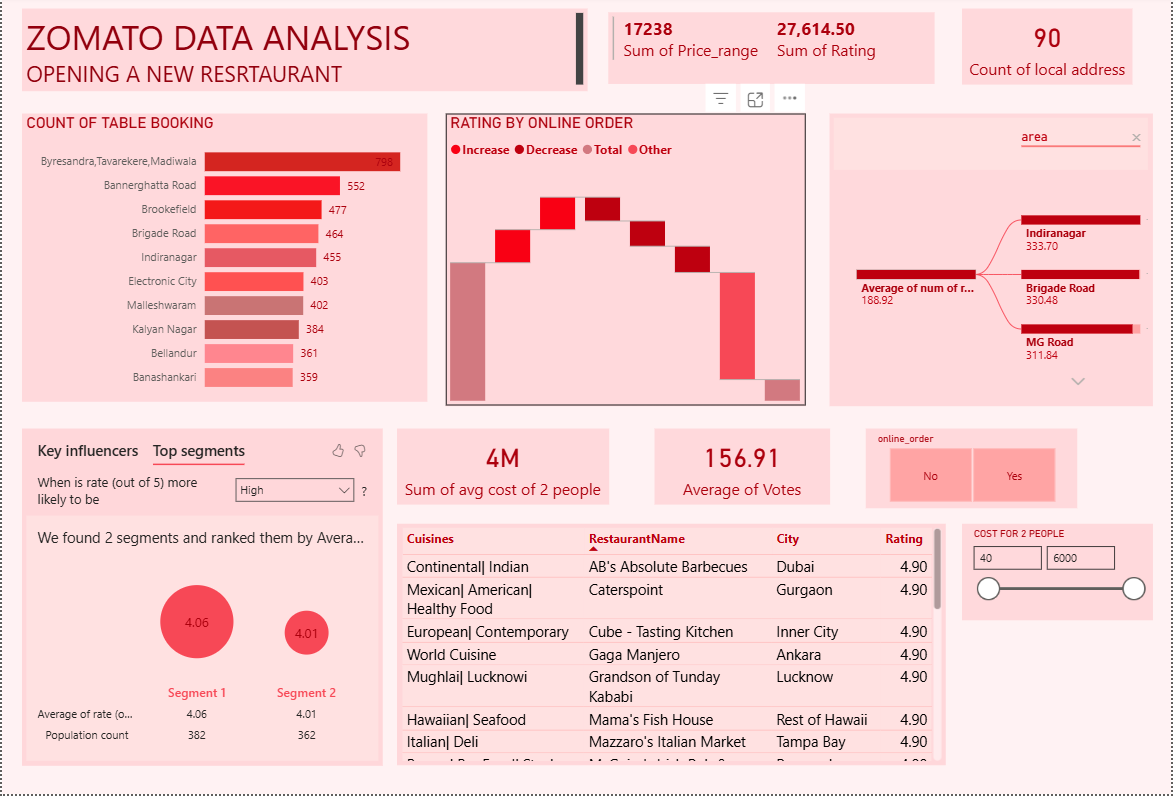

The page's visual inventory and layout, read from the dashboard file:
{"tool":"powerbi","page":{"name":"Page 2","canvas":[1278,873],"ordinal":1},"visuals":[{"type":"waterfallChart","title":"RATING BY ONLINE ORDER","fields":{"Y":["Sum(ZOMATO.num of ratings)"],"Category":["ZOMATO.online_order"],"Breakdown":["ZOMATO.rate (out of 5)"]},"box":[485,128.3,393.3,320],"z":0},{"type":"keyDriversVisual","fields":{"Target":["ZOMATO.rate (out of 5)"],"ExplainBy":["ZOMATO.table booking","ZOMATO.online_order","ZOMATO.area"]},"box":[21.4,472.9,394.3,368.6],"z":1000},{"type":"decompositionTreeVisual","fields":{"ExplainBy":["ZOMATO.area","ZOMATO.cuisines type.1","ZOMATO.cuisines type.2","ZOMATO.cuisines type.3","ZOMATO.cuisines type.4","ZOMATO.cuisines type.5","ZOMATO.cuisines type.6","ZOMATO.cuisines type.7","ZOMATO.rate (out of 5)"],"Analyze":["Avg(ZOMATO.num of ratings)"]},"box":[905,128.3,353.3,320],"z":2000},{"type":"card","fields":{"Values":["Avg(Zomato_Dataset.Votes)"]},"box":[713.3,473.3,191.7,83.3],"z":3000},{"type":"multiRowCard","fields":{"Values":["Sum(Zomato_Dataset.Price_range)","Sum(Zomato_Dataset.Rating)"]},"box":[662.9,17.1,357.1,78.6],"z":4000},{"type":"card","fields":{"Values":["Count(ZOMATO.local address)"]},"box":[1050,13.3,186.7,83.3],"z":5000},{"type":"clusteredBarChart","title":"COUNT OF TABLE BOOKING","fields":{"Category":["ZOMATO.area"],"Y":["CountNonNull(ZOMATO.table booking)"]},"box":[21.7,128.3,443.3,315],"z":6000},{"type":"tableEx","fields":{"Values":["Zomato_Dataset.Cuisines","Zomato_Dataset.RestaurantName","Zomato_Dataset.City","Zomato_Dataset.Rating"]},"box":[431.4,577.1,600,264.3],"z":7000},{"type":"card","fields":{"Values":["Sum(ZOMATO.avg cost (two people))"]},"box":[431.7,473.3,231.7,83.3],"z":8000},{"type":"slicer","fields":{"Values":["ZOMATO.online_order"]},"box":[944.3,472.9,231.4,87.1],"z":9000},{"type":"textbox","box":[21.7,13.3,618.3,90],"z":10000},{"type":"slicer","fields":{"Values":["ZOMATO.avg cost (two people)"]},"box":[1050,577.1,208.6,105.7],"z":11000}]}

Visuals, with their boxes in screenshot pixels (x1, y1, x2, y2), scaled from the page's 1278x873 canvas onto the 1176x799 screenshot:
"RATING BY ONLINE ORDER" waterfallChart: left=446, top=117, right=808, bottom=410
keyDriversVisual - ZOMATO.rate (out of 5) x ZOMATO.table booking: left=20, top=433, right=383, bottom=770
decompositionTreeVisual - ZOMATO.area x ZOMATO.cuisines type.1: left=833, top=117, right=1158, bottom=410
card - Avg(Zomato_Dataset.Votes): left=656, top=433, right=833, bottom=509
multiRowCard - Sum(Zomato_Dataset.Price_range) x Sum(Zomato_Dataset.Rating): left=610, top=16, right=939, bottom=88
card - Count(ZOMATO.local address): left=966, top=12, right=1138, bottom=88
"COUNT OF TABLE BOOKING" clusteredBarChart: left=20, top=117, right=428, bottom=406
tableEx - Zomato_Dataset.Cuisines x Zomato_Dataset.RestaurantName: left=397, top=528, right=949, bottom=770
card - Sum(ZOMATO.avg cost (two people)): left=397, top=433, right=610, bottom=509
slicer - ZOMATO.online_order: left=869, top=433, right=1082, bottom=513
textbox: left=20, top=12, right=589, bottom=95
slicer - ZOMATO.avg cost (two people): left=966, top=528, right=1158, bottom=625
